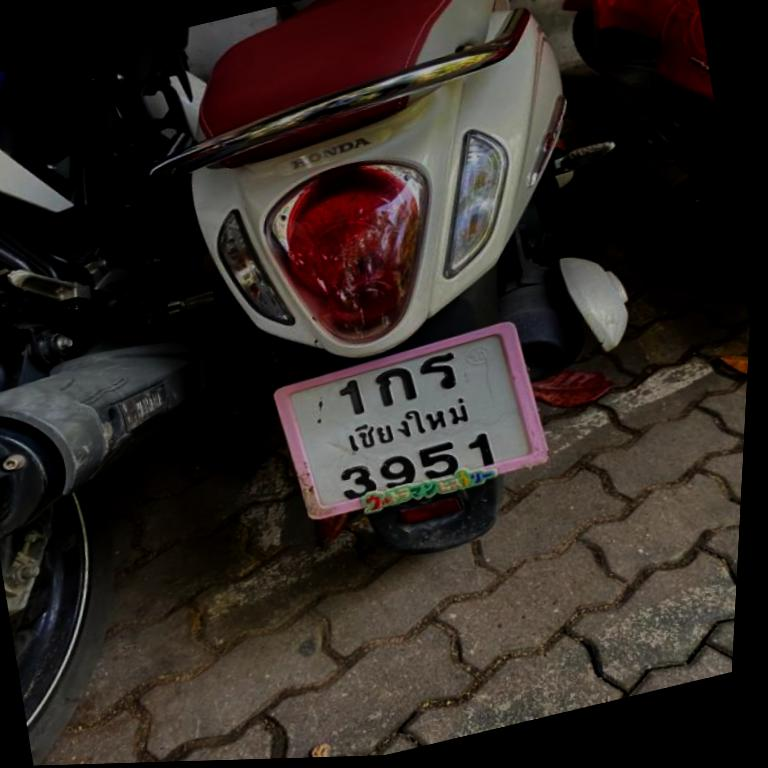license plate: (275, 322, 547, 517)
